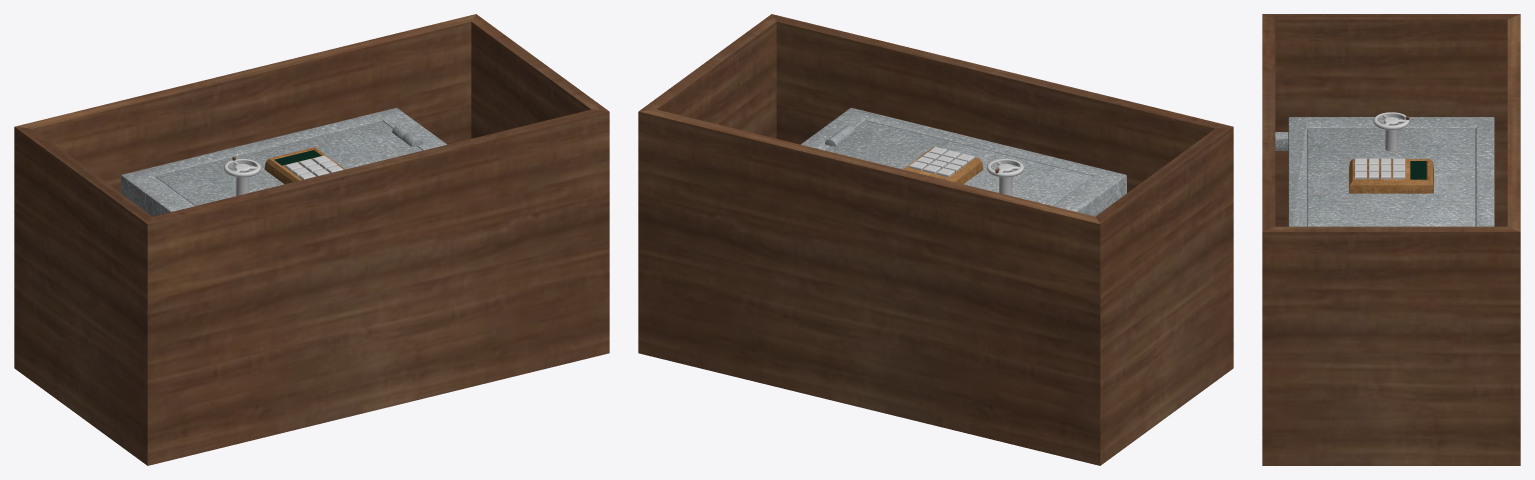
File: SafeSet.fbx
The picture shows the model from 3 angles, left to right: view 1: azimuth 30°, elevation 25°; view 2: azimuth 150°, elevation 25°; view 3: azimuth 270°, elevation 25°; orthographic projection. The views are drawn at different scales.
Parts seen in each view (by area): view 1: CabinetShelf, SafeDoor, SafeBox, KeyBoard, SafeHandle; view 2: CabinetShelf, SafeDoor, SafeBox, SafeHandle, KeyBoard; view 3: CabinetShelf, SafeDoor, SafeBox, KeyBoard, SafeHandle.
Boxes of the visible parts, box(x1,y1,x2,y2) form: CabinetShelf: box(14, 14, 609, 465); SafeDoor: box(155, 121, 422, 205); SafeBox: box(121, 108, 446, 216); KeyBoard: box(264, 147, 345, 184); SafeHandle: box(223, 156, 260, 195); CabinetShelf: box(638, 14, 1233, 465); SafeDoor: box(825, 121, 1092, 205); SafeBox: box(801, 108, 1126, 216); SafeHandle: box(987, 158, 1024, 195); KeyBoard: box(902, 147, 983, 184); CabinetShelf: box(1262, 14, 1520, 465); SafeDoor: box(1307, 128, 1475, 226); SafeBox: box(1275, 117, 1494, 226); KeyBoard: box(1349, 159, 1433, 193); SafeHandle: box(1373, 112, 1409, 151).
Bounding box in the file's own units: 400 × 200 × 200.
Materials: 5 (3 with a texture image).
